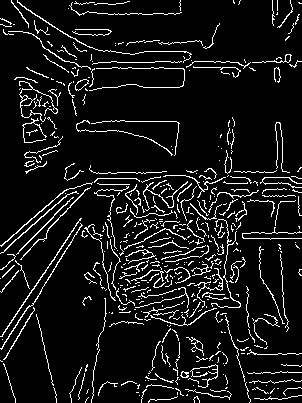cucumber: (101, 171, 246, 325)
